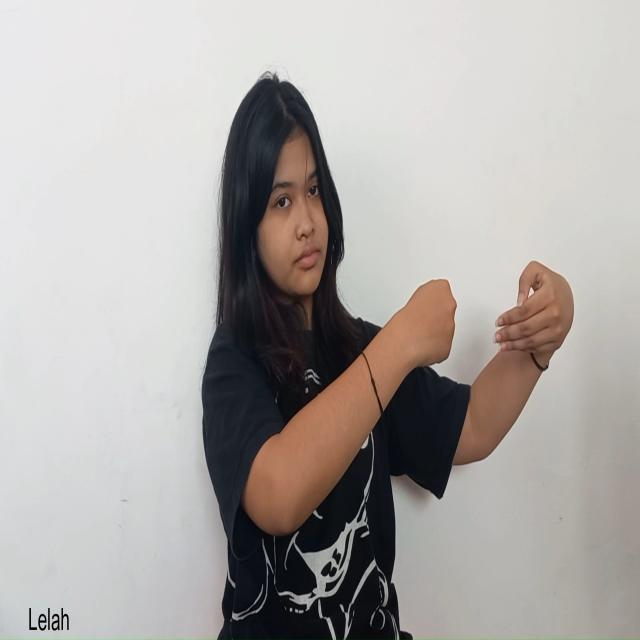Lelah -BISINDO-: (400, 259, 576, 385)
